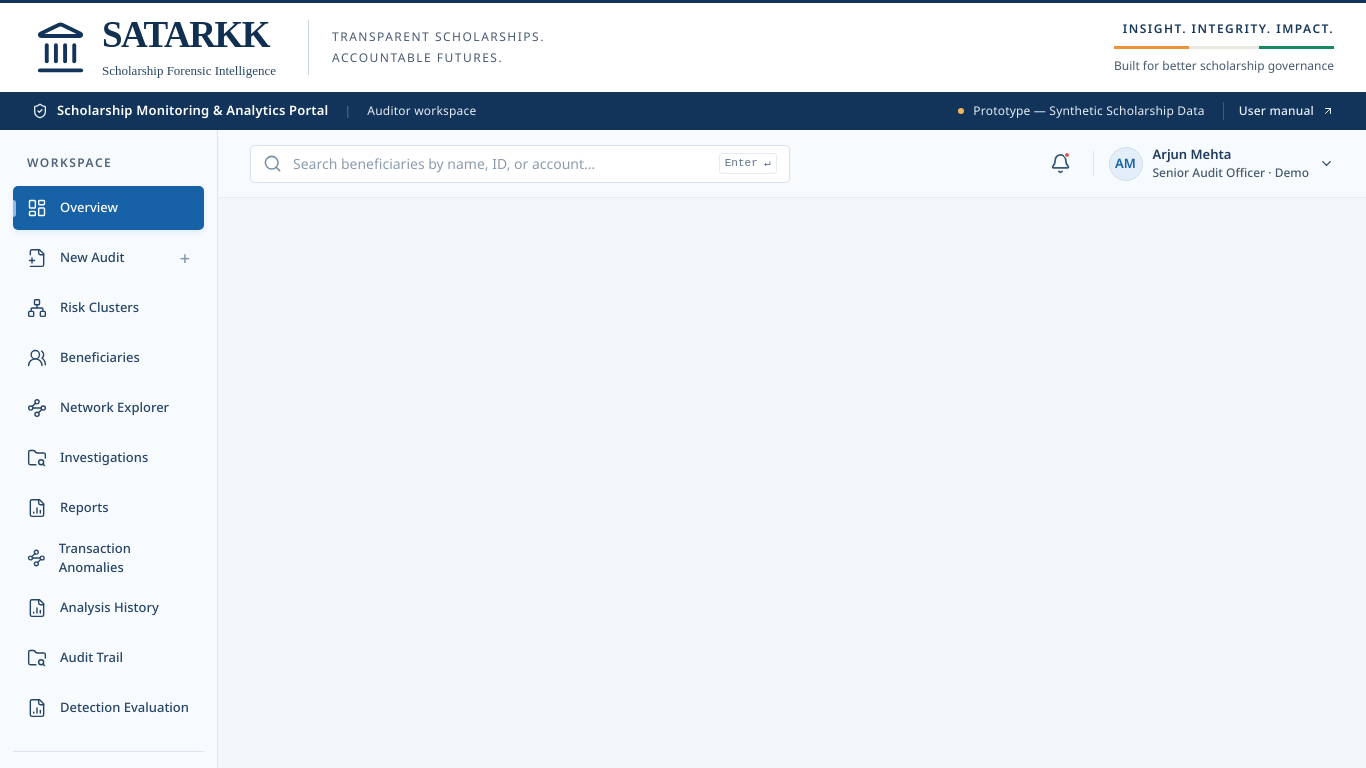
Test: UI refresh - Item 2 profile dropdown › opens profile dropdown and shows logout item
Check: the button "Logout" is not shown
// Click to open dropdown
Click the button "AM Arjun Mehta Senior Audit Officer · Demo".
click(1221, 164)  # box 1108,145 -> 1334,182
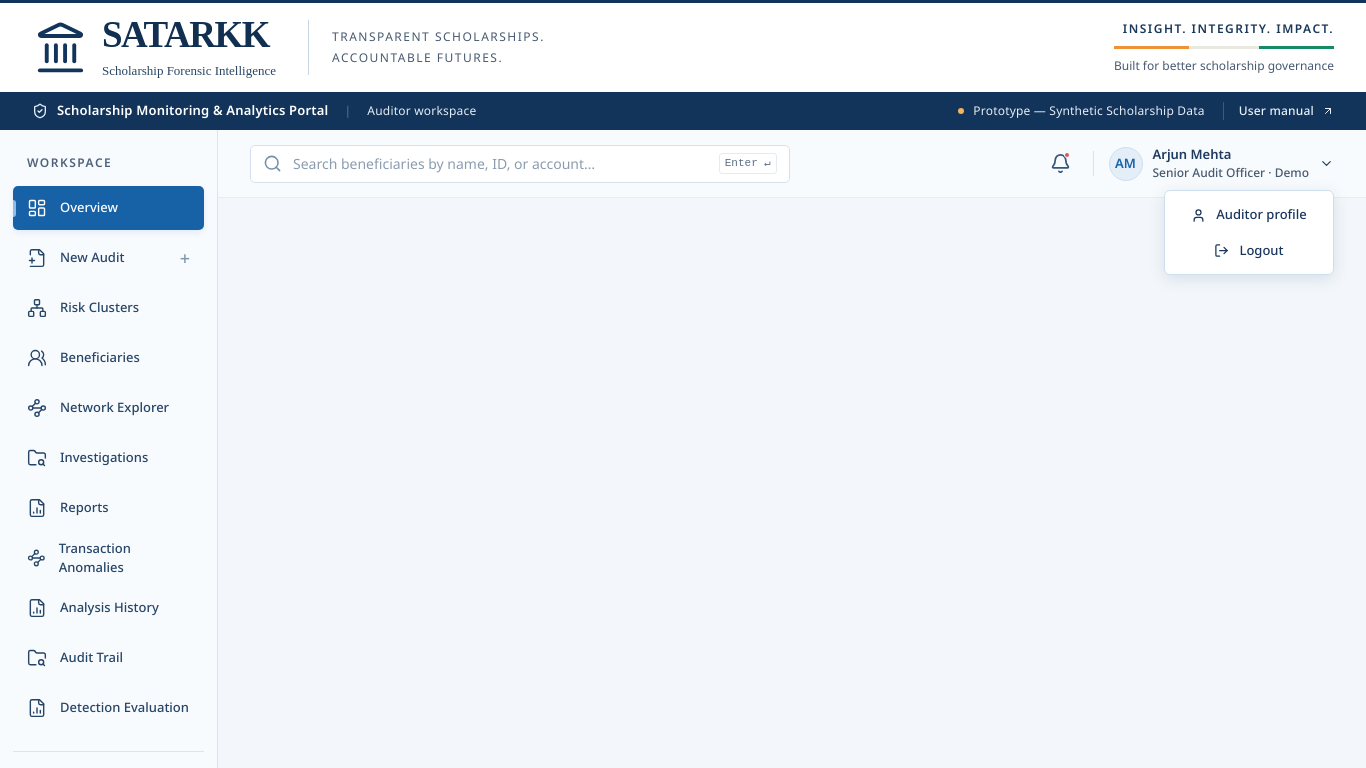
Check: the menu item "Logout" is shown, box 1165,233 -> 1333,268
// Close on Escape
Press Escape
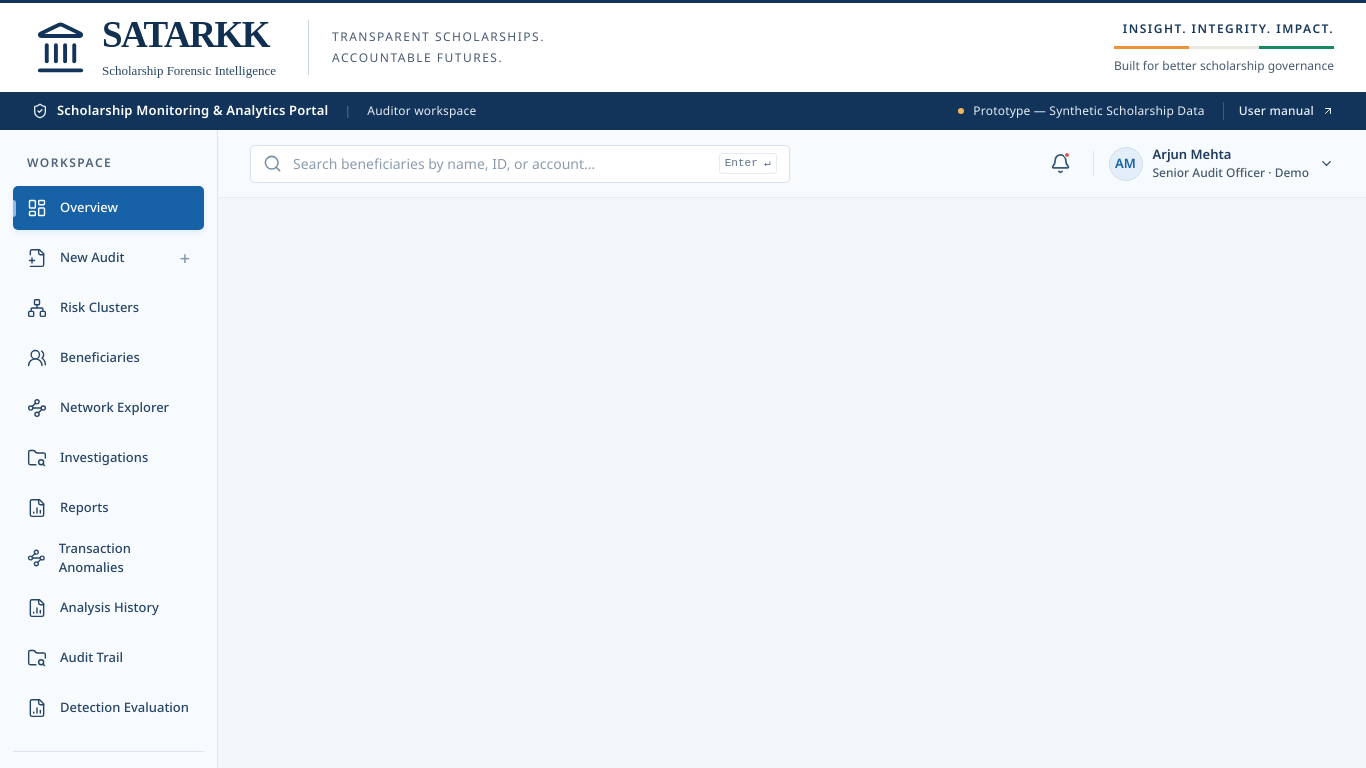
Check: the menu item "Logout" is gone
